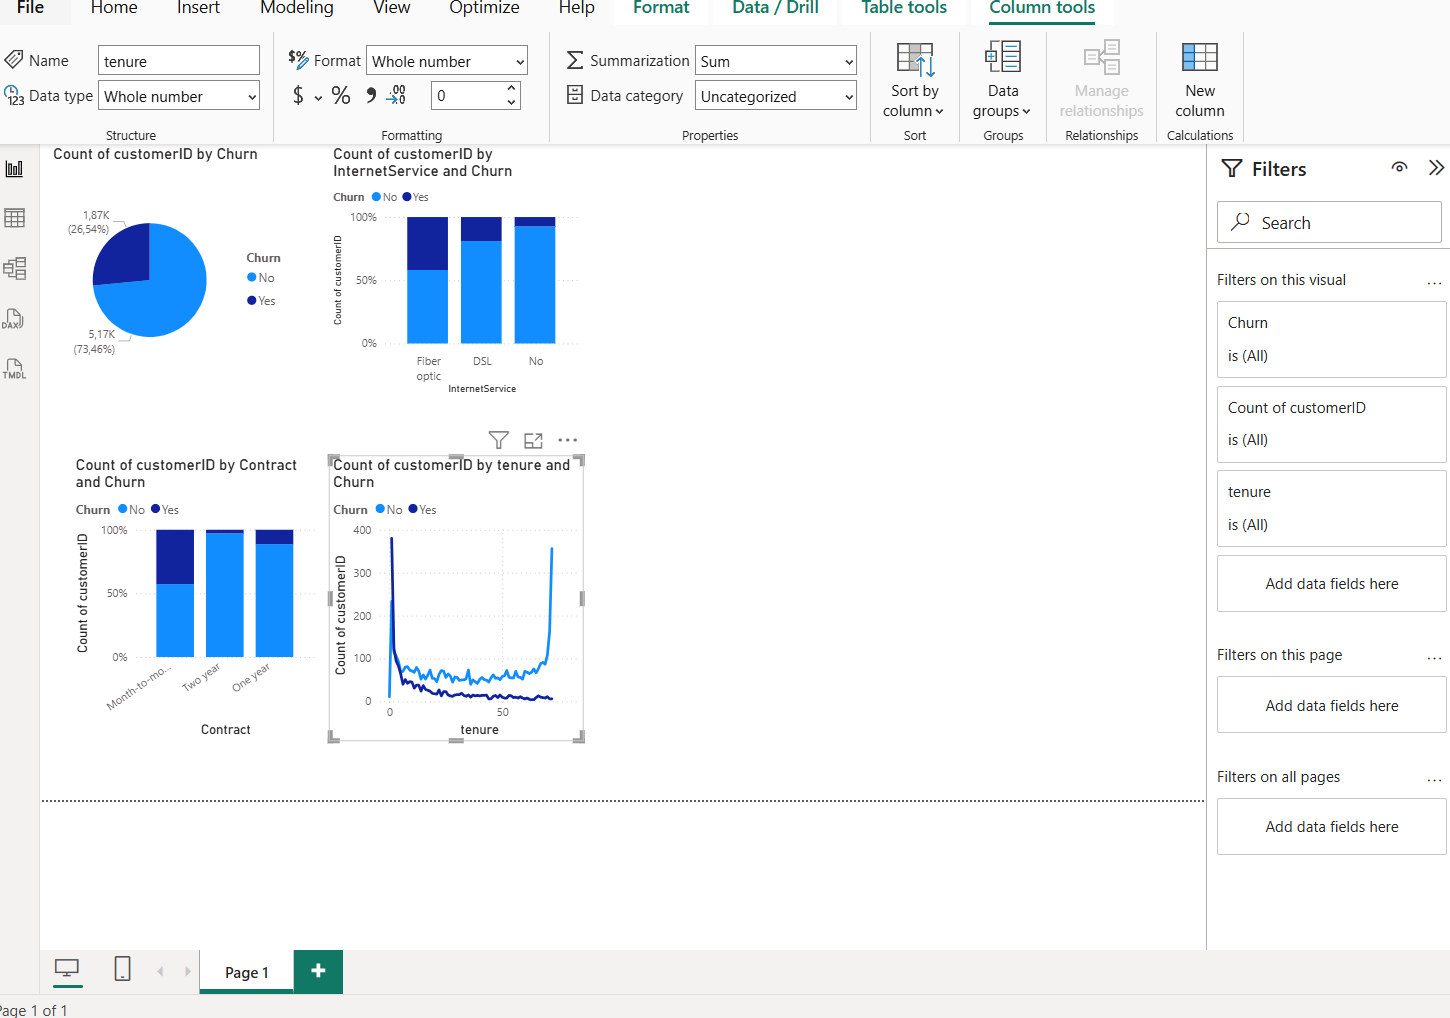

What the dashboard file says about the page in this screenshot:
{"tool":"powerbi","page":{"name":"Page 1","canvas":[1280,720],"ordinal":0},"visuals":[{"type":"pieChart","fields":{"Category":["WA_Fn-UseC_-Telco-Customer-Chur.Churn"],"Y":["CountNonNull(WA_Fn-UseC_-Telco-Customer-Chur.customerID)"]},"box":[10,0,280,280],"z":0},{"type":"hundredPercentStackedColumnChart","fields":{"Category":["WA_Fn-UseC_-Telco-Customer-Chur.Contract"],"Series":["WA_Fn-UseC_-Telco-Customer-Chur.Churn"],"Y":["CountNonNull(WA_Fn-UseC_-Telco-Customer-Chur.customerID)"]},"box":[34.3,341.7,273.1,314.2],"z":1},{"type":"hundredPercentStackedColumnChart","fields":{"Category":["WA_Fn-UseC_-Telco-Customer-Chur.InternetService"],"Y":["CountNonNull(WA_Fn-UseC_-Telco-Customer-Chur.customerID)"],"Series":["WA_Fn-UseC_-Telco-Customer-Chur.Churn"]},"box":[317,0,280,280],"z":2},{"type":"lineChart","fields":{"Category":["WA_Fn-UseC_-Telco-Customer-Chur.tenure"],"Y":["CountNonNull(WA_Fn-UseC_-Telco-Customer-Chur.customerID)"],"Series":["WA_Fn-UseC_-Telco-Customer-Chur.Churn"]},"box":[317,342,280,314],"z":3}]}

Visuals, with their boxes on the page's 1280x720 design canvas (x1, y1, x2, y2). These are canvas units, not pixel positions in the 1450x1018 screenshot, which may show the page scaled, cropped or inside an application window:
pieChart - WA_Fn-UseC_-Telco-Customer-Chur.Churn x CountNonNull(WA_Fn-UseC_-Telco-Customer-Chur.customerID): select_region(10, 0, 290, 280)
hundredPercentStackedColumnChart - WA_Fn-UseC_-Telco-Customer-Chur.Contract x WA_Fn-UseC_-Telco-Customer-Chur.Churn: select_region(34, 342, 307, 656)
hundredPercentStackedColumnChart - WA_Fn-UseC_-Telco-Customer-Chur.InternetService x CountNonNull(WA_Fn-UseC_-Telco-Customer-Chur.customerID): select_region(317, 0, 597, 280)
lineChart - WA_Fn-UseC_-Telco-Customer-Chur.tenure x CountNonNull(WA_Fn-UseC_-Telco-Customer-Chur.customerID): select_region(317, 342, 597, 656)
